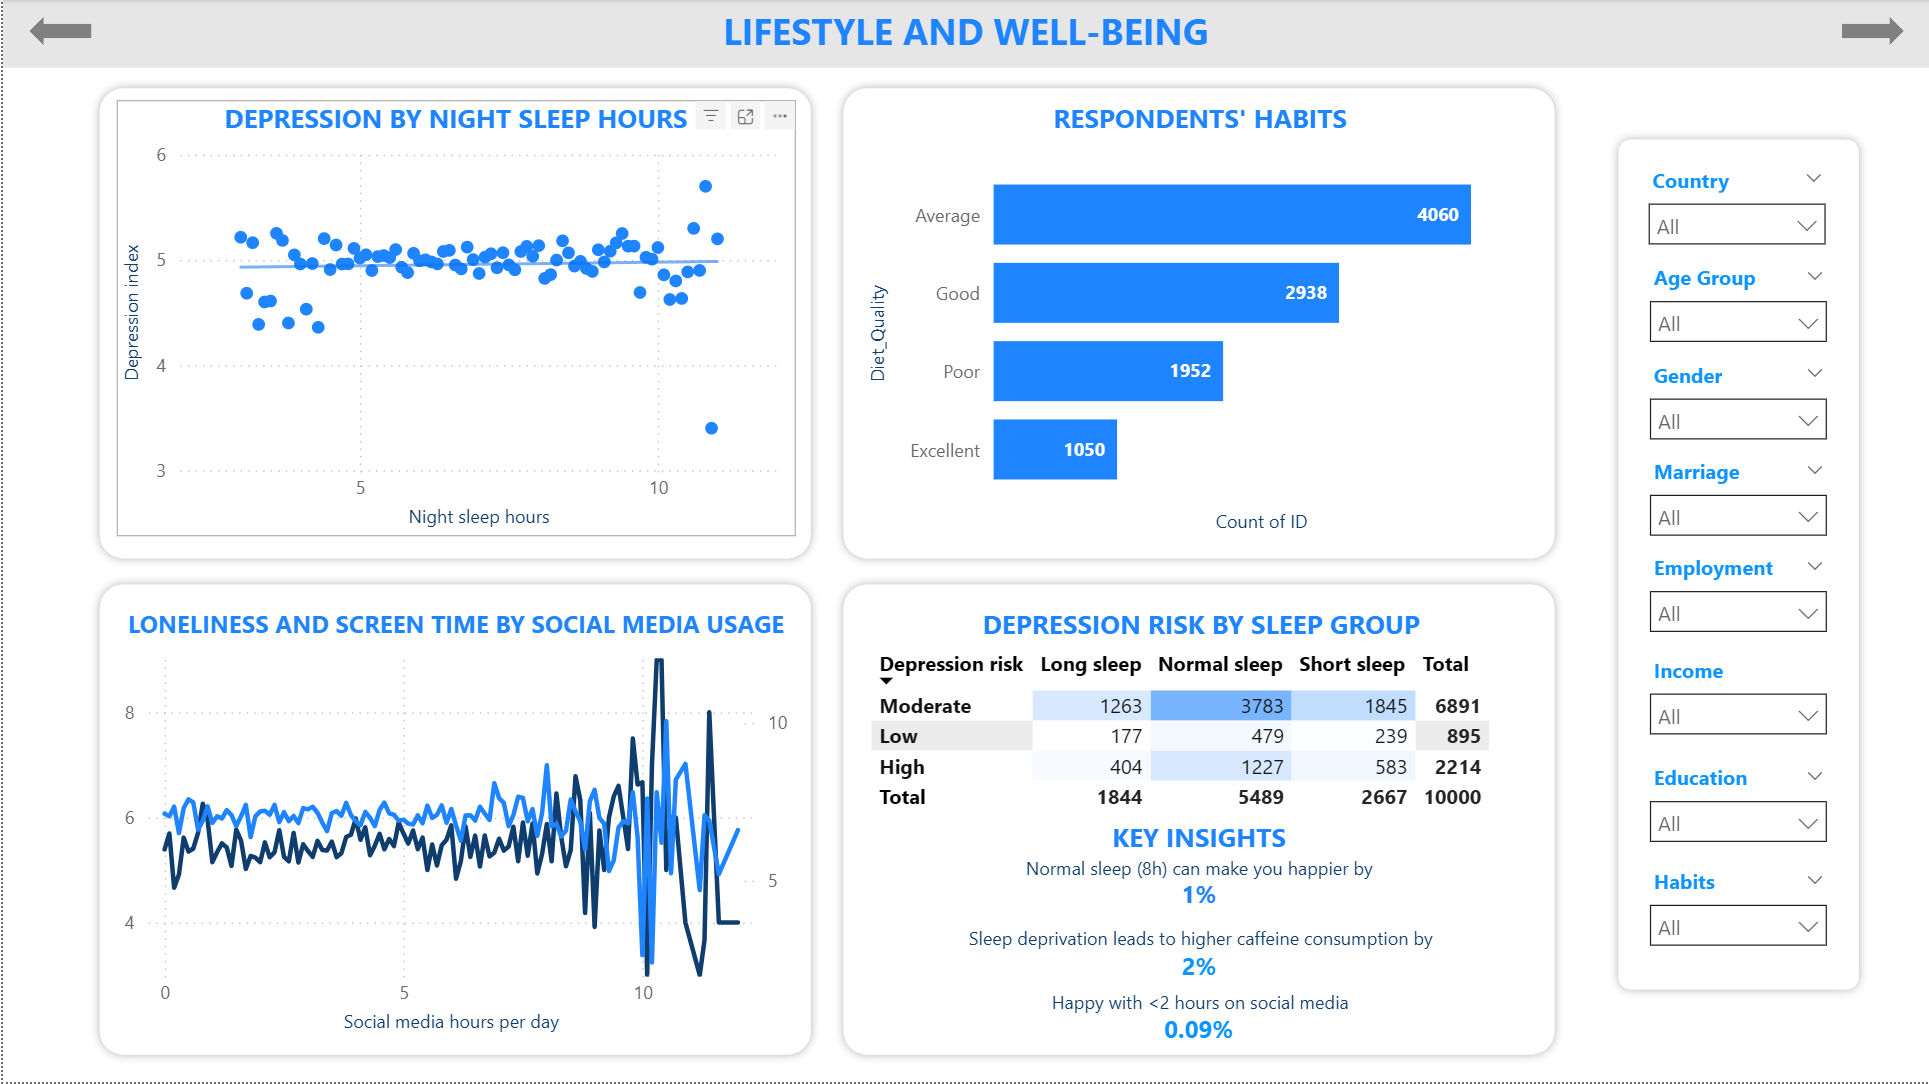

The page's visual inventory and layout, read from the dashboard file:
{"tool":"powerbi","page":{"name":"Lifestyle & Health","canvas":[1280,720],"ordinal":1},"visuals":[{"type":"shape","box":[1067.8,87.5,172,577.2],"z":0},{"type":"shape","box":[552.6,383.3,484.9,324.8],"z":1000},{"type":"shape","box":[58.6,383.3,484.9,324.8],"z":2000},{"type":"shape","box":[58.5,53.1,484.9,324.8],"z":3000},{"type":"shape","box":[552.6,53.1,484.9,324.8],"z":4000},{"type":"slicer","fields":{"Values":["country.Country"]},"box":[1083.3,106.1,138.1,65.9],"z":5000},{"type":"slicer","fields":{"Values":["education.Education"]},"box":[1084.1,503.1,138.1,69.5],"z":6000},{"type":"slicer","fields":{"Values":["employment.Employment_Status"]},"box":[1083.7,363.7,138.1,71.4],"z":7000},{"type":"slicer","fields":{"Values":["gender.Gender"]},"box":[1083.7,235.7,138.1,65],"z":8000},{"type":"slicer","fields":{"Values":["income.Income_Level"]},"box":[1084.1,431.8,138.1,71.4],"z":9000},{"type":"slicer","fields":{"Values":["mariage.Marital_Status"]},"box":[1083.7,299.7,138.1,65],"z":10000},{"type":"slicer","fields":{"Values":["mental_health.Age_Group"]},"box":[1083.7,170.7,138.1,65.9],"z":11000},{"type":"textbox","box":[0,0,1279.8,45.7],"z":12000},{"type":"scatterChart","title":"DEPRESSION BY NIGHT SLEEP HOURS","fields":{"X":["mental_health.Sleep_Hours_Night"],"Y":["mental_health.Depression_Index"]},"box":[75.9,67.7,451,289.1],"z":13000},{"type":"areaChart","title":"LONELINESS AND SCREEN TIME BY SOCIAL MEDIA USAGE","fields":{"Category":["mental_health.Social_Media_Hours_Day"],"Y":["Avg(mental_health.Loneliness)"],"Y2":["Avg(mental_health.Screen_Time_Hours_Day)"]},"box":[75.9,403.4,451,288.2],"z":14000},{"type":"slicer","fields":{"Values":["Habbits.Habbits"]},"box":[1084.1,572.7,138.1,64],"z":15000},{"type":"clusteredBarChart","title":"RESPONDENTS'' HABITS","fields":{"Category":["mental_health.Alcohol_Frequency","mental_health.Smoking","mental_health.Caffeine_Drinks_Day","mental_health.Diet_Quality"],"Y":["CountNonNull(mental_health.ID)"]},"box":[571.8,67.7,448.3,292.7],"z":16000},{"type":"pivotTable","title":"DEPRESSION RISK BY SLEEP GROUP","fields":{"Rows":["mental_health.Depression_Risk"],"Columns":["mental_health.Sleep_Group"],"Values":["Count(mental_health.ID)"]},"box":[572.1,399,448.1,146.2],"z":17000},{"type":"card","fields":{"Values":["mental_health.Digital_Detox_Success"]},"box":[759.6,673.1,71.2,27.9],"z":18000},{"type":"shape","box":[1222.1,11.5,41.3,19.2],"z":19000},{"type":"shape","box":[17.3,11.5,41.3,19.2],"z":20000},{"type":"card","title":"KEY INSIGHTS","fields":{"Values":["mental_health.Sleep_Insight_Text"]},"box":[626.9,545.2,335.6,85.6],"z":21000},{"type":"textbox","box":[673.1,563.5,244.2,31.7],"z":22000},{"type":"card","fields":{"Values":["mental_health.Caffeine_Sleep_Link"]},"box":[760.6,630.8,68.3,26.9],"z":23000},{"type":"textbox","box":[686.5,651.9,217.3,32.7],"z":24000},{"type":"textbox","box":[635.6,609.6,321.2,29.8],"z":25000}]}

Visuals, with their boxes in screenshot pixels (x1, y1, x2, y2), scaled from the page's 1280x720 canvas onto the 1929x1084 screenshot:
shape: bbox=[1609, 132, 1868, 1001]
shape: bbox=[833, 577, 1564, 1066]
shape: bbox=[88, 577, 819, 1066]
shape: bbox=[88, 80, 819, 569]
shape: bbox=[833, 80, 1564, 569]
slicer - country.Country: bbox=[1633, 160, 1841, 259]
slicer - education.Education: bbox=[1634, 757, 1842, 862]
slicer - employment.Employment_Status: bbox=[1633, 548, 1841, 655]
slicer - gender.Gender: bbox=[1633, 355, 1841, 453]
slicer - income.Income_Level: bbox=[1634, 650, 1842, 758]
slicer - mariage.Marital_Status: bbox=[1633, 451, 1841, 549]
slicer - mental_health.Age_Group: bbox=[1633, 257, 1841, 356]
textbox: bbox=[0, 0, 1928, 69]
"DEPRESSION BY NIGHT SLEEP HOURS" scatterChart: bbox=[114, 102, 794, 537]
"LONELINESS AND SCREEN TIME BY SOCIAL MEDIA USAGE" areaChart: bbox=[114, 607, 794, 1041]
slicer - Habbits.Habbits: bbox=[1634, 862, 1842, 959]
"RESPONDENTS'' HABITS" clusteredBarChart: bbox=[862, 102, 1537, 543]
"DEPRESSION RISK BY SLEEP GROUP" pivotTable: bbox=[862, 601, 1537, 821]
card - mental_health.Digital_Detox_Success: bbox=[1145, 1013, 1252, 1055]
shape: bbox=[1842, 17, 1904, 46]
shape: bbox=[26, 17, 88, 46]
"KEY INSIGHTS" card: bbox=[945, 821, 1451, 950]
textbox: bbox=[1014, 848, 1382, 896]
card - mental_health.Caffeine_Sleep_Link: bbox=[1146, 950, 1249, 990]
textbox: bbox=[1035, 981, 1362, 1031]
textbox: bbox=[958, 918, 1442, 963]
